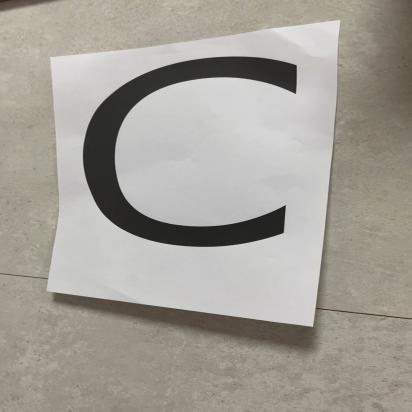seat: (53, 38, 324, 303)
